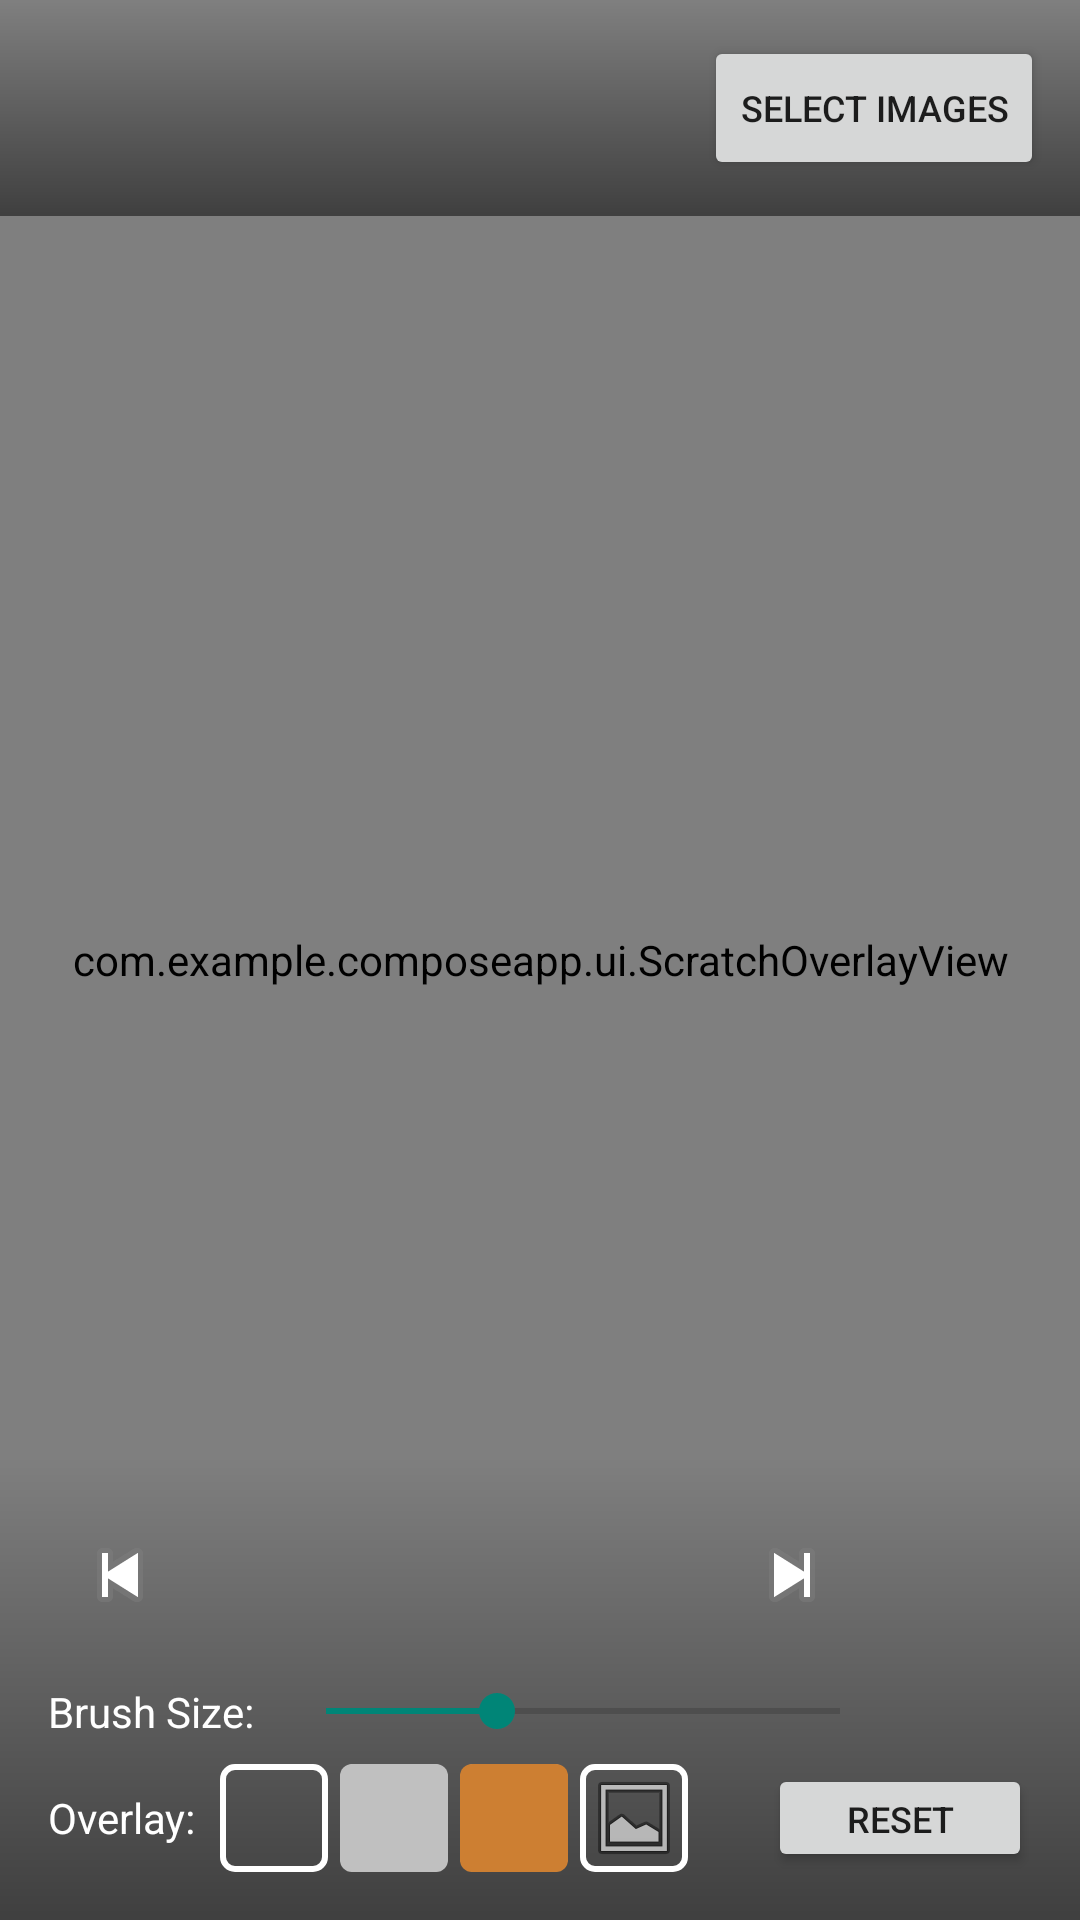

Named icons in this screenshot (1080 x 1920) and their centers, point (x, y):
Custom overlay image: point (634, 1818)
Next image: point (792, 1575)
Previous image: point (120, 1575)
